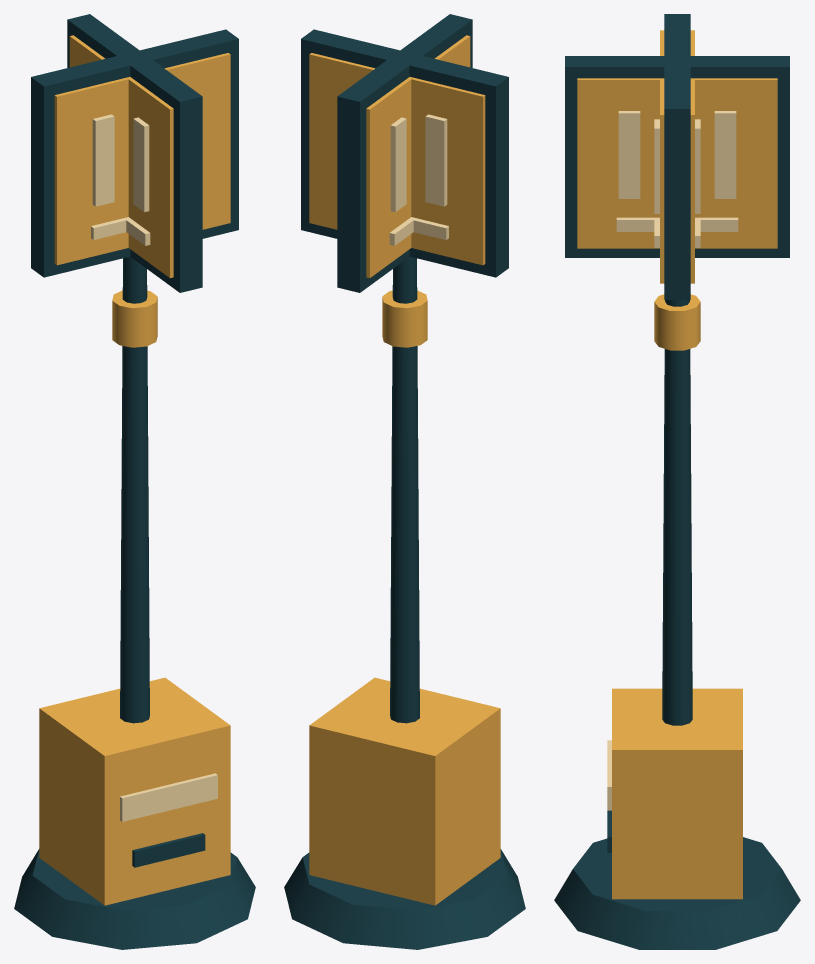
The model's file is parcel-tower-3.glb.
The picture shows the model from 3 angles, left to right: view 1: azimuth 30°, elevation 25°; view 2: azimuth 150°, elevation 25°; view 3: azimuth 270°, elevation 25°; orthographic projection.
Size of the model in its own units: 1.62 by 6.37 by 1.7.
